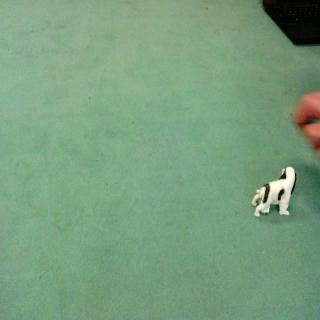dog: (248, 160, 300, 228)
